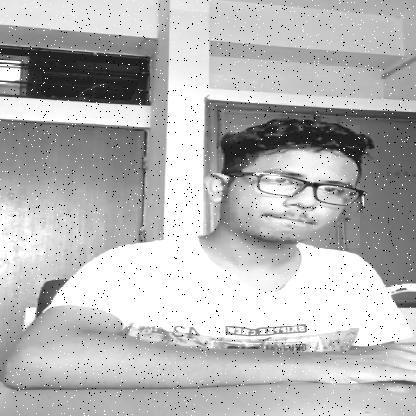Normal: (230, 125, 360, 248)
